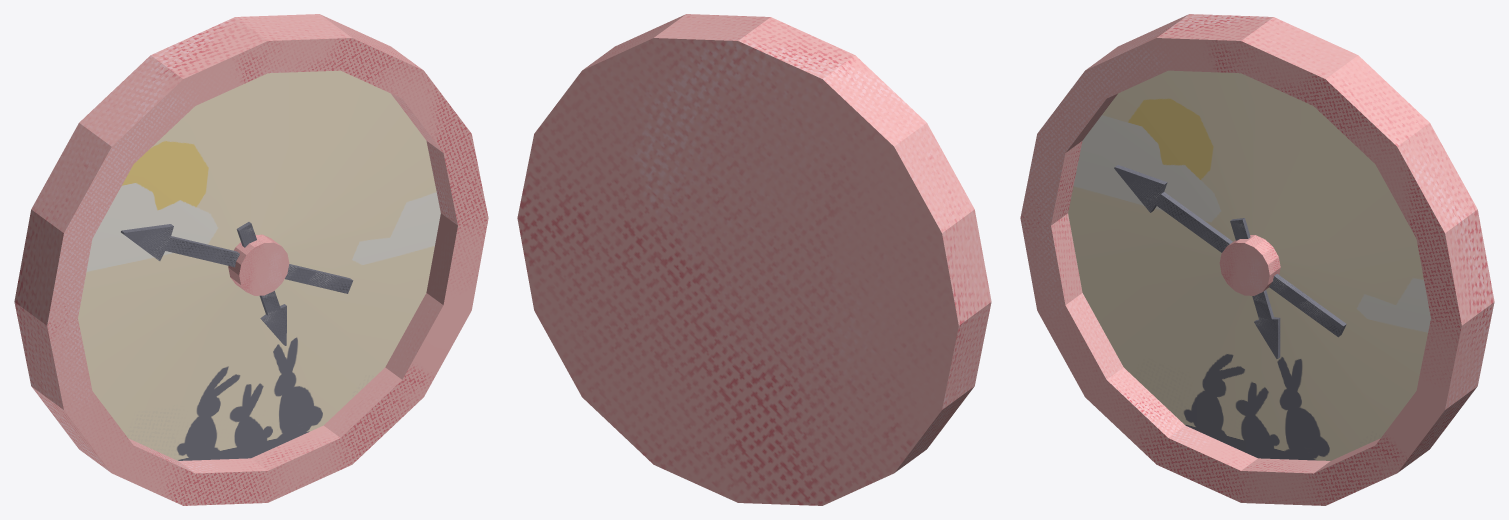
Rendered from Clock.fbx.
The picture shows the model from 3 angles, left to right: view 1: azimuth 30°, elevation 25°; view 2: azimuth 150°, elevation 25°; view 3: azimuth 330°, elevation 25°; orthographic projection.
Visible parts, largest first — view 1: Prop_KidsClock; view 2: Prop_KidsClock; view 3: Prop_KidsClock.
Part boxes in pixels (box(x1,y1,x2,y2)): Prop_KidsClock: box(14, 14, 488, 505); Prop_KidsClock: box(517, 14, 991, 505); Prop_KidsClock: box(1020, 14, 1494, 505).
Bounding box in the file's own units: 48.18 × 48.18 × 6.22.
Materials: 1 (1 with a texture image).
